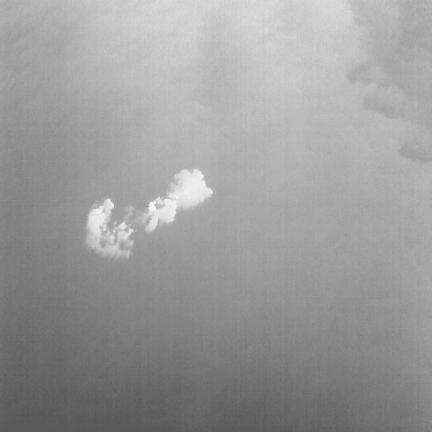flukeprints: (138, 169, 212, 231), (167, 169, 212, 208), (144, 198, 176, 231), (87, 206, 109, 233)
